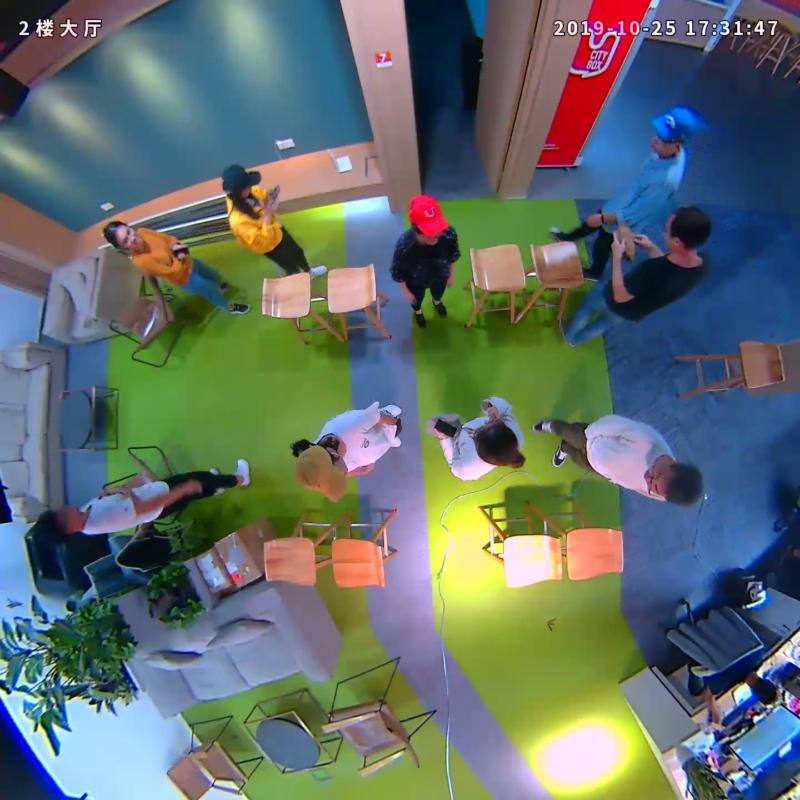head: (292, 443, 349, 503), (643, 461, 704, 505), (664, 205, 712, 253), (474, 420, 519, 467), (650, 106, 695, 152), (407, 192, 449, 240), (34, 504, 82, 545), (219, 164, 262, 200), (102, 220, 143, 248)
